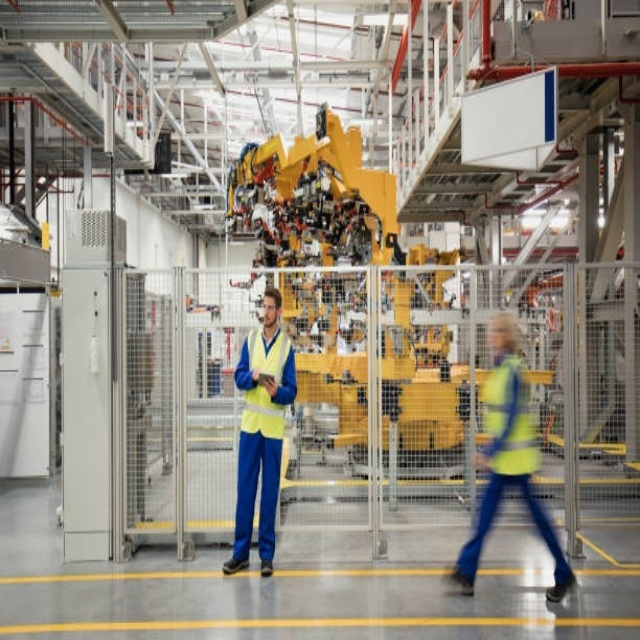Gafas: (263, 304, 279, 311)
Sin_guantes: (254, 373, 276, 393)
